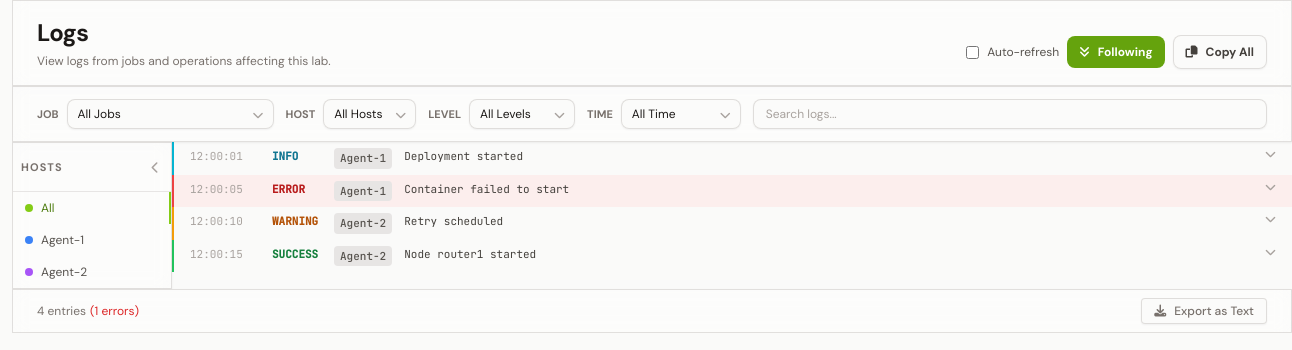
Test: LogsView - details and pipeline › toggles auto-scroll button text between Following and Follow
Expected: the text "Deployment started" is shown, [404,149,523,163]
Click the button "Following" at (1116, 52), box [1067,36,1164,68]
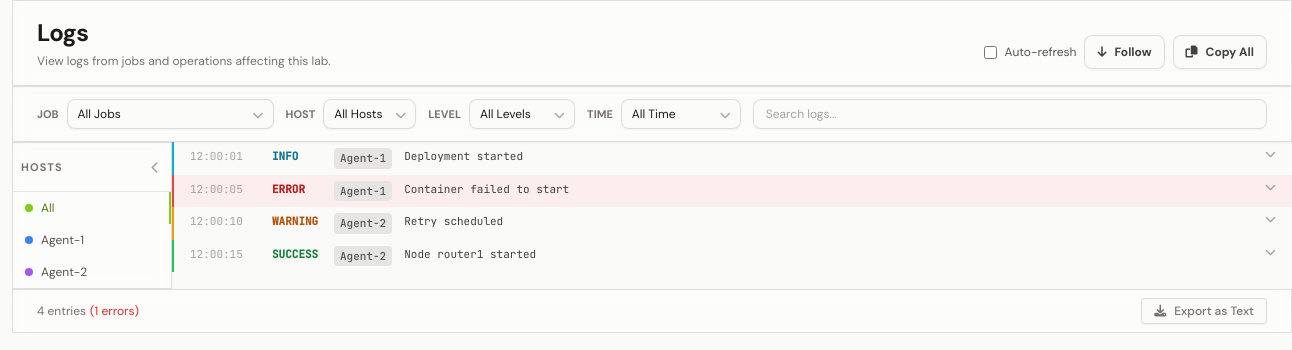
Expected: the button "Follow" is shown, [1084,35,1164,69]
Result: the button "Following" is gone
